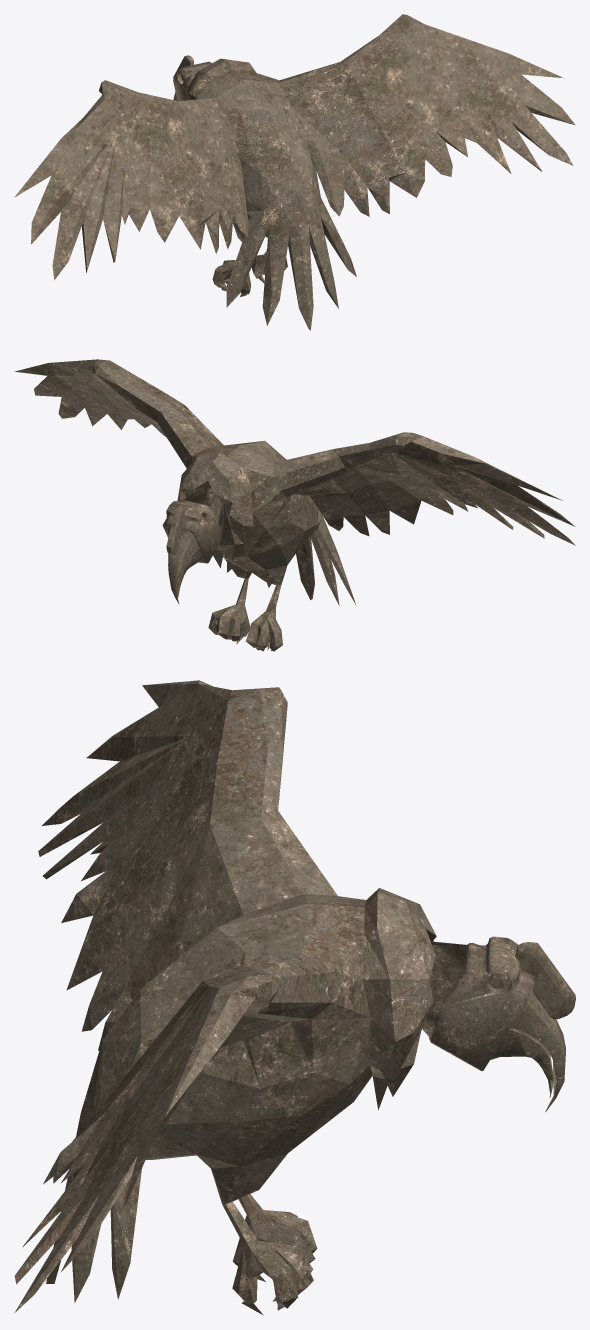
Rendered from mdl_franch_Meta_Condor.gltf.
3 views of the same model, one above another, from view 1: azimuth 30°, elevation 25°; view 2: azimuth 150°, elevation 25°; view 3: azimuth 270°, elevation 25° (orthographic). The views are drawn at different scales.
Parts seen in each view (by area): view 1: RUFFLE; view 2: RUFFLE; view 3: RUFFLE.
Part boxes in pixels (x1=…): RUFFLE: x1=14, y1=14, x2=575, y2=330; RUFFLE: x1=15, y1=359, x2=575, y2=651; RUFFLE: x1=14, y1=680, x2=575, y2=1315.
Bounding box in the file's own units: 3.29 × 1.43 × 1.54.
Materials: 1 (1 with a texture image).
